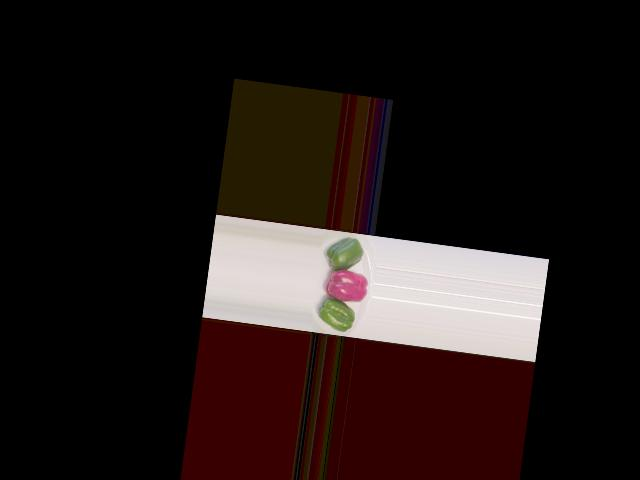bell_pepper: (320, 232, 370, 274)
